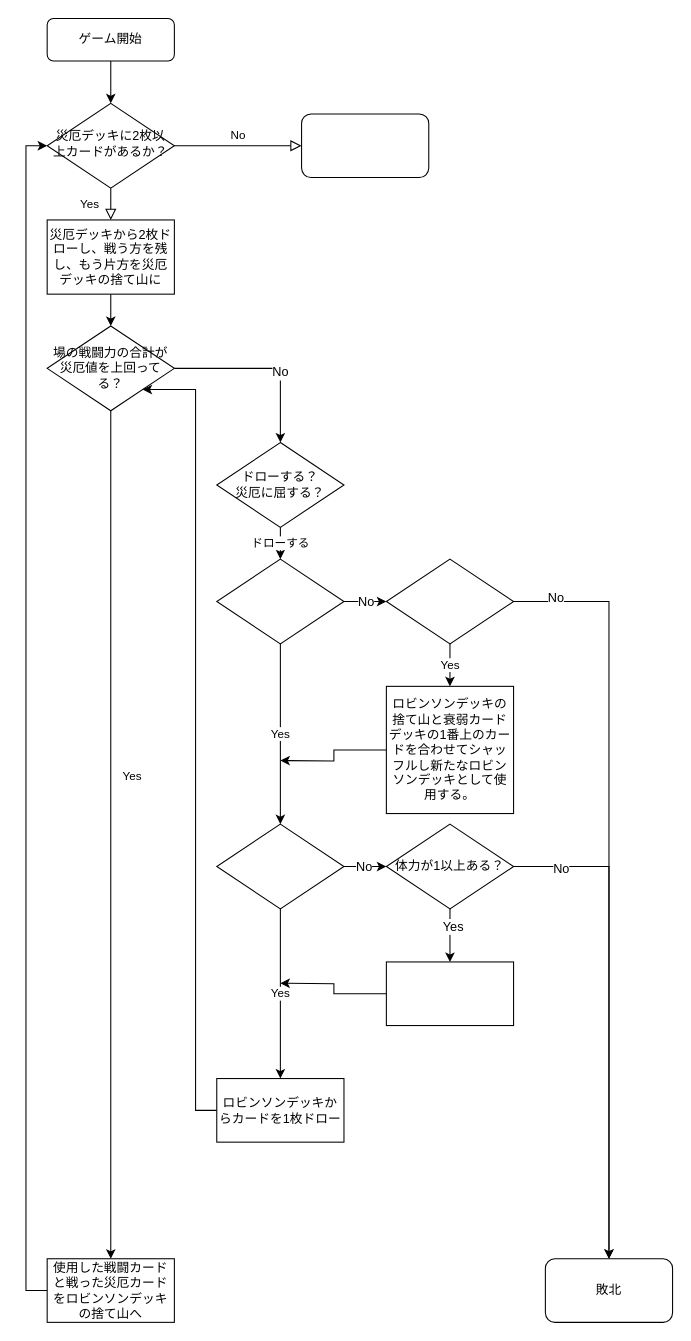
Some shapes in this 691 by 1341 pixel diagram are drawn without their labels. The shapes that lost their labels are listed below. From the top down, each one's box as (x1, y1, x2, y2) in pixels, then its label:
(301, 113, 429, 178): 勝利
(216, 558, 344, 644): ロビンソンデッキが1枚以上ある？
(385, 558, 514, 644): 衰弱カードが1枚以上ある？
(216, 823, 344, 909): 無料ドロー分がまだ残ってる？
(385, 961, 514, 1026): 体力を1消費してロビンソンデッキから1枚ドロー
